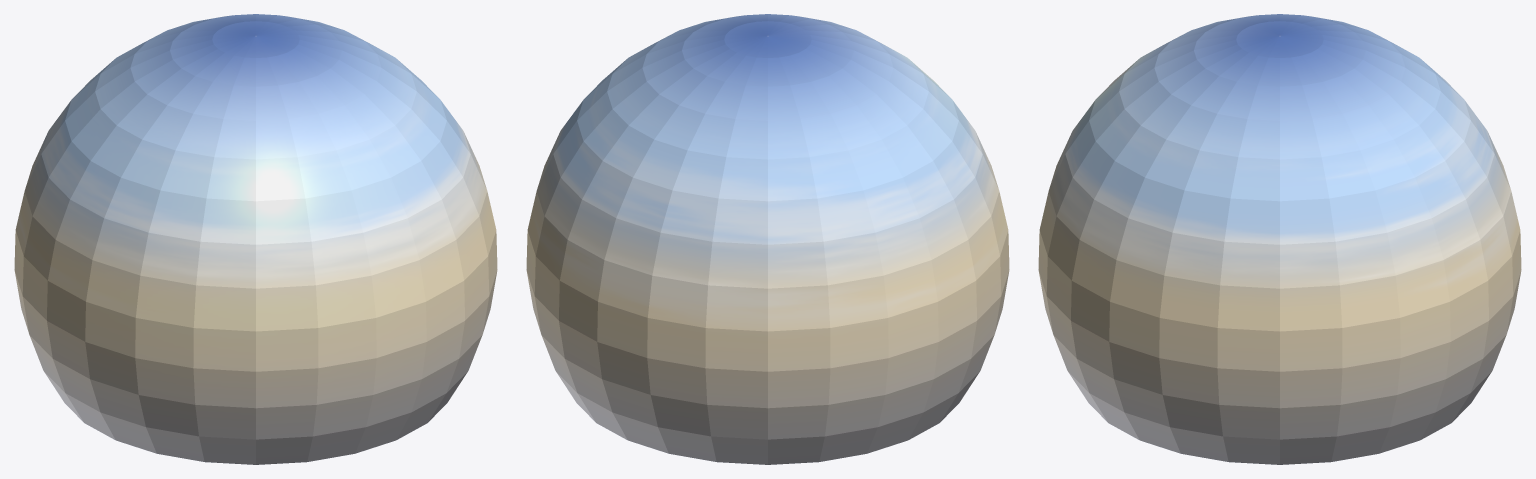
The model's file is SkyDome.obj.
The picture shows the model from 3 angles, left to right: view 1: azimuth 30°, elevation 25°; view 2: azimuth 150°, elevation 25°; view 3: azimuth 270°, elevation 25°; orthographic projection.
Parts seen in each view (by area): view 1: SkyDome; view 2: SkyDome; view 3: SkyDome.
Part boxes in pixels (bbox=[...]): SkyDome: bbox=[14, 14, 497, 464]; SkyDome: bbox=[526, 14, 1009, 464]; SkyDome: bbox=[1038, 14, 1521, 464].
Size of the model in its own units: 249 by 197 by 249.
1 material, 1 textured.
